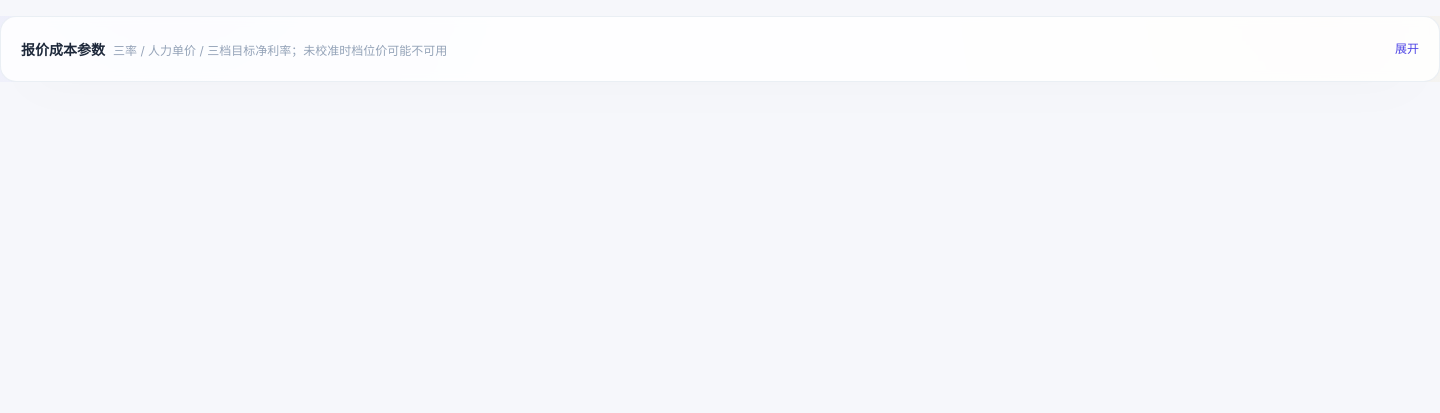
Test: PricingCostSettings › 无 tenant:settings:manage 权限时只读展示
The width and height of the screenshot is (1440, 413).
Click the button "报价成本参数" at (63, 50), box [21,37,1419,61]
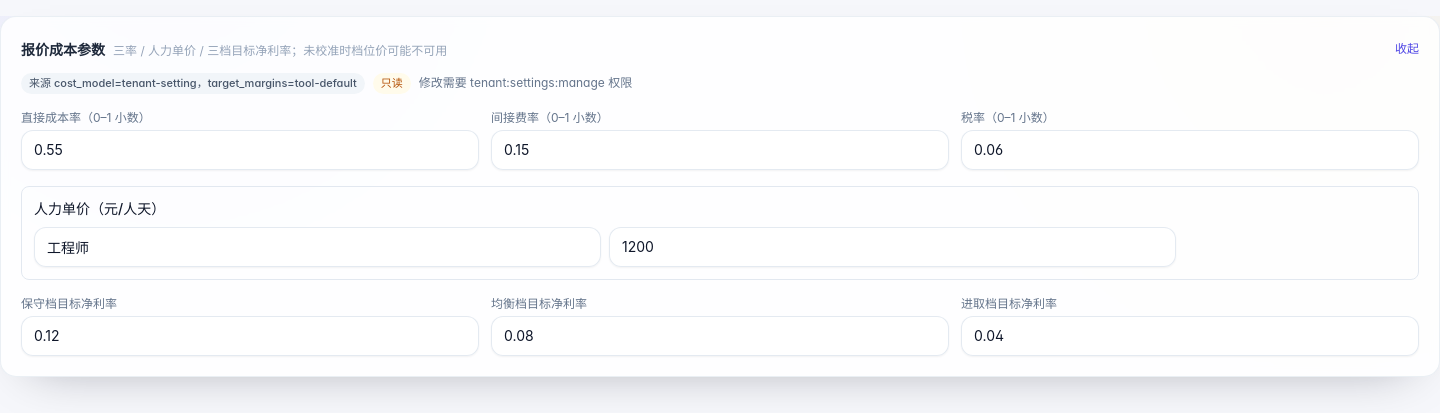
Now the number field labelled "直接成本率" is disabled, box [21,130,479,170]
Now the field named "人力岗位第1行" is disabled, box [34,226,601,266]
Now the number field labelled "均衡档目标净利率" is disabled, box [491,316,949,356]
